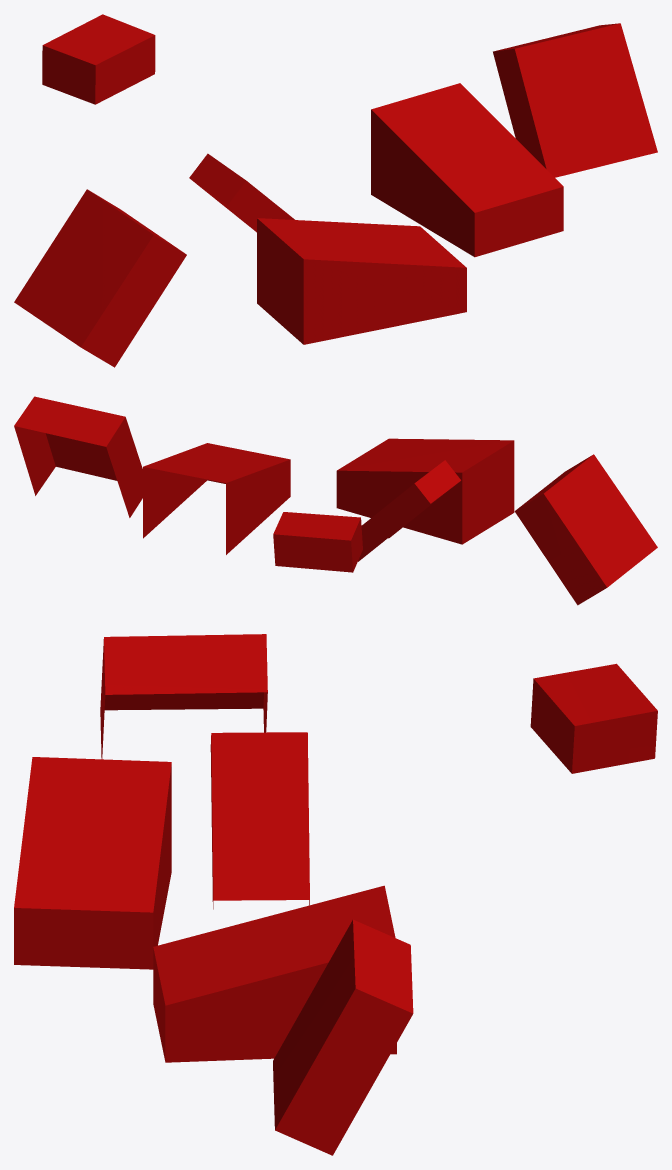
File: n_marketstand02_box_lod0.glb
3 views of the same model, one above another, from view 1: azimuth 30°, elevation 25°; view 2: azimuth 150°, elevation 25°; view 3: azimuth 270°, elevation 25° (orthographic). The views are drawn at different scales.
Parts seen in each view (by area): view 1: MODEL_n_marketstand02_box_lod0; view 2: MODEL_n_marketstand02_box_lod0; view 3: MODEL_n_marketstand02_box_lod0.
Boxes of the visible parts, x1,y1,x2,y2 form: MODEL_n_marketstand02_box_lod0: [14, 14, 657, 367]; MODEL_n_marketstand02_box_lod0: [14, 396, 657, 605]; MODEL_n_marketstand02_box_lod0: [14, 634, 657, 1155].
Bounding box in the file's own units: 1.77 × 0.3825 × 1.18.
